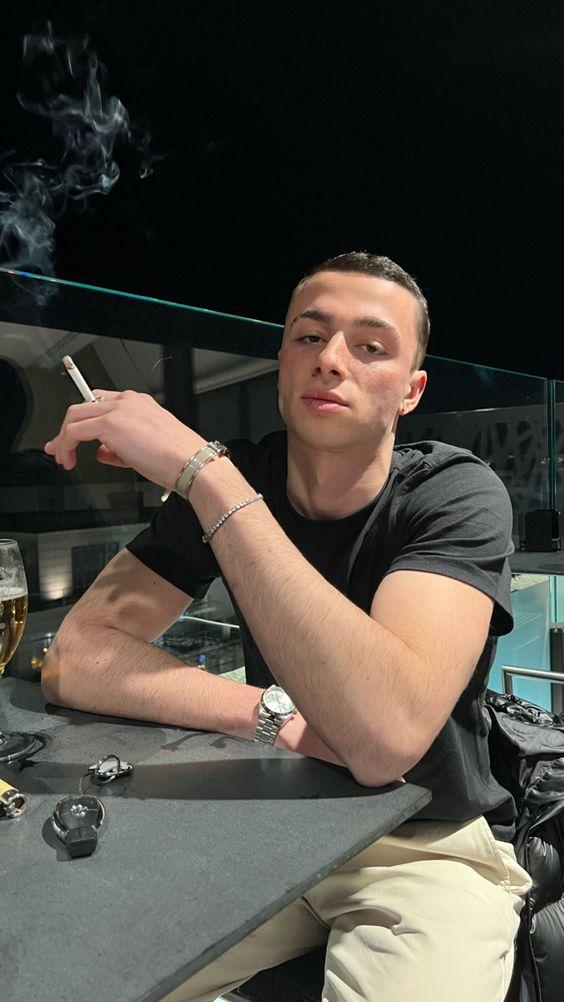cigarette: (61, 355, 98, 401)
